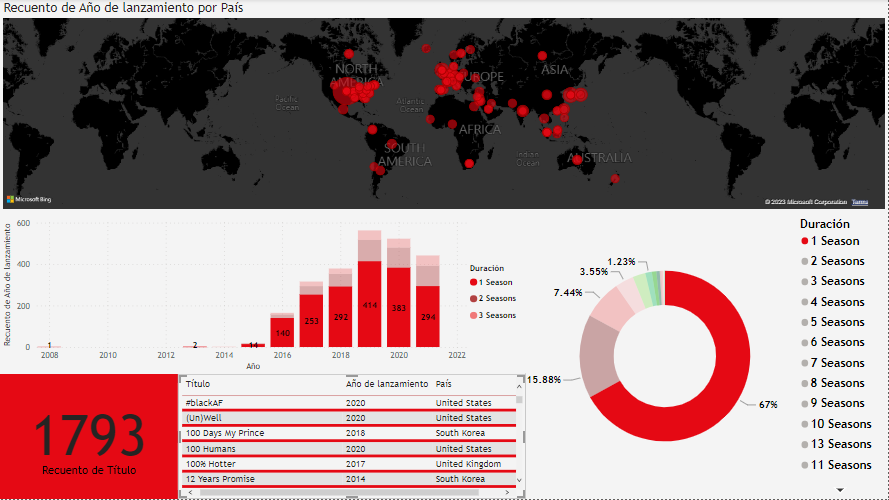

The dashboard page shown, as its layout file describes it:
{"tool":"powerbi","page":{"name":"Página 1","canvas":[1280,720],"ordinal":0},"visuals":[{"type":"tableEx","fields":{"Values":["netflix_titles.title","netflix_titles.Año de lanzamiento","netflix_titles.País"]},"box":[256.3,540,501.1,180],"z":0},{"type":"columnChart","fields":{"Category":["netflix_titles.date_added.Variación.Jerarquía de fechas.Año"],"Y":["CountNonNull(netflix_titles.release_year)"],"Series":["netflix_titles.Duración"]},"box":[0,308.2,757.4,231.8],"z":1},{"type":"donutChart","fields":{"Category":["netflix_titles.duration"],"Y":["CountNonNull(netflix_titles.country)"]},"box":[757.4,308.2,512.6,411.8],"z":2},{"type":"map","fields":{"Category":["netflix_titles.País"],"Size":["CountNonNull(netflix_titles.Año de lanzamiento)"]},"box":[0,0,1280.2,308.2],"z":3},{"type":"card","fields":{"Values":["CountNonNull(netflix_titles.Título)"]},"box":[0,540,256.3,180],"z":4}]}

Visuals, with their boxes in screenshot pixels (x1, y1, x2, y2), scaled from the page's 1280x720 canvas onto the 889x500 screenshot:
tableEx - netflix_titles.title x netflix_titles.Año de lanzamiento: 178 375 526 499
columnChart - netflix_titles.date_added.Variación.Jerarquía de fechas.Año x CountNonNull(netflix_titles.release_year): 0 214 526 375
donutChart - netflix_titles.duration x CountNonNull(netflix_titles.country): 526 214 882 499
map - netflix_titles.País x CountNonNull(netflix_titles.Año de lanzamiento): 0 0 888 214
card - CountNonNull(netflix_titles.Título): 0 375 178 499
